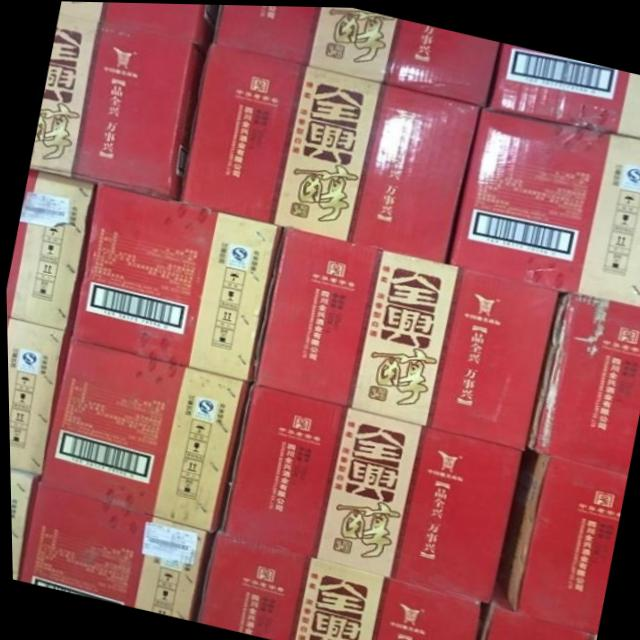box: (251, 227, 561, 449), (214, 383, 525, 597), (181, 46, 480, 261), (71, 183, 283, 382), (42, 337, 252, 531), (446, 106, 640, 304), (30, 13, 210, 199), (189, 533, 482, 640), (209, 4, 498, 105), (16, 482, 212, 619), (493, 448, 622, 629), (525, 289, 640, 471), (5, 167, 94, 333), (486, 40, 640, 135), (6, 319, 66, 474), (477, 574, 593, 640), (59, 1, 219, 44), (8, 469, 38, 579)
